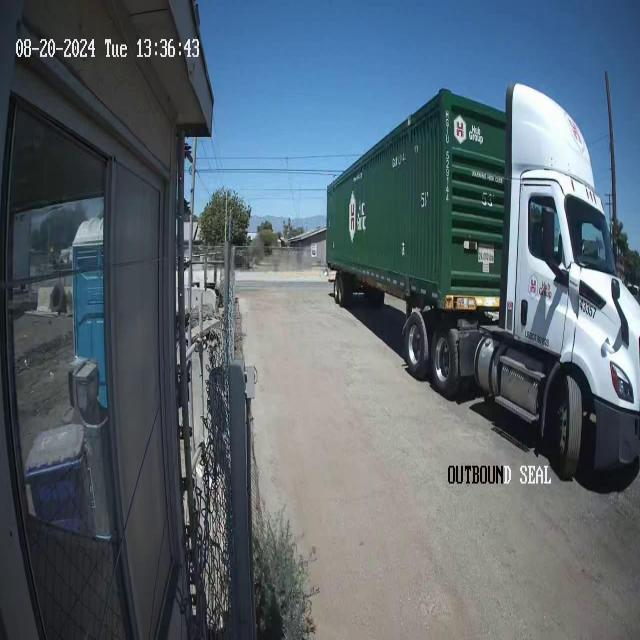TRUCK_IN: (325, 79, 639, 489)
